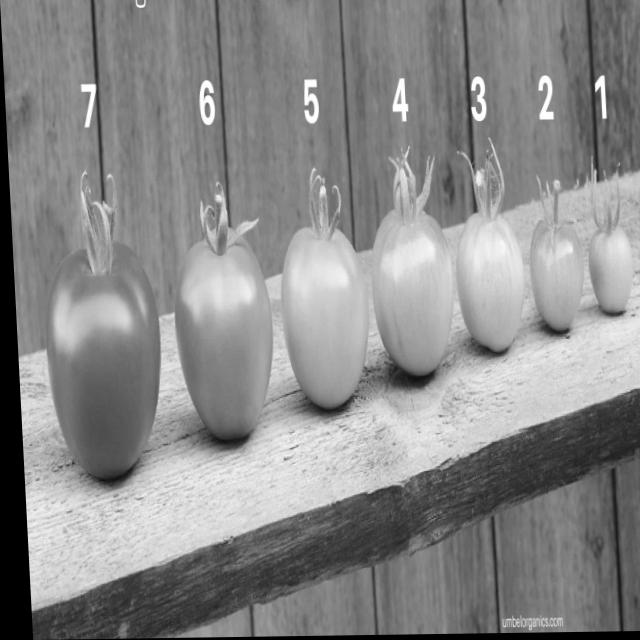kirmizi: (30, 223, 168, 499)
sari: (161, 172, 368, 434)
yesil: (370, 181, 640, 387)
